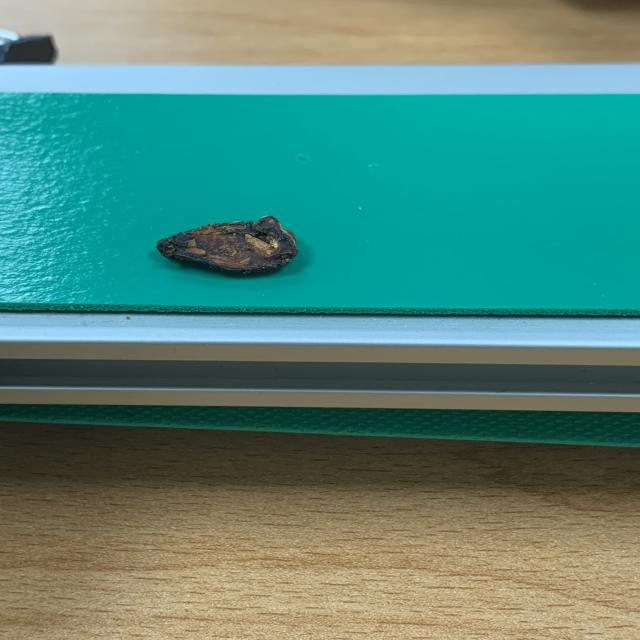Flat_cocoabeans: (109, 185, 356, 299)
